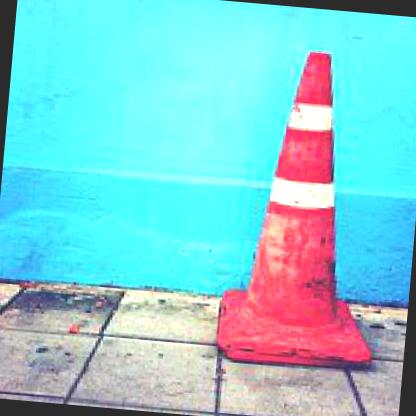cone: (212, 44, 393, 372)
